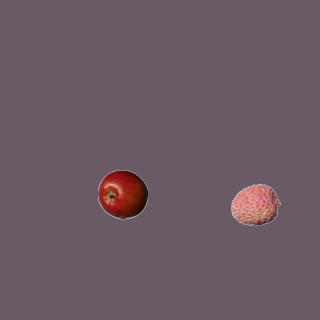Apple Braeburn: (97, 169, 147, 219)
Lychee: (230, 179, 280, 229)
